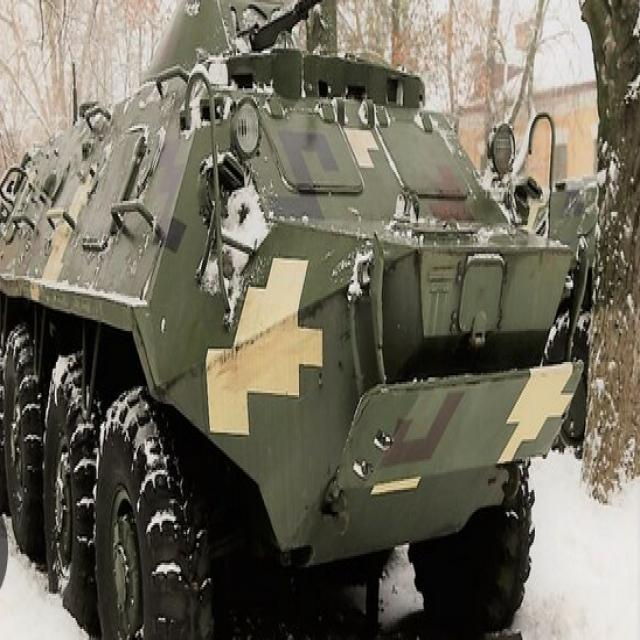MIL_APC: (1, 50, 576, 640)
